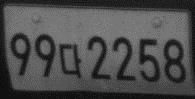2: (86, 35, 112, 81), (113, 35, 137, 82)
5: (137, 36, 161, 85)
8: (163, 38, 187, 85)
9: (9, 31, 31, 77), (34, 32, 56, 78)
다: (57, 41, 83, 81)
